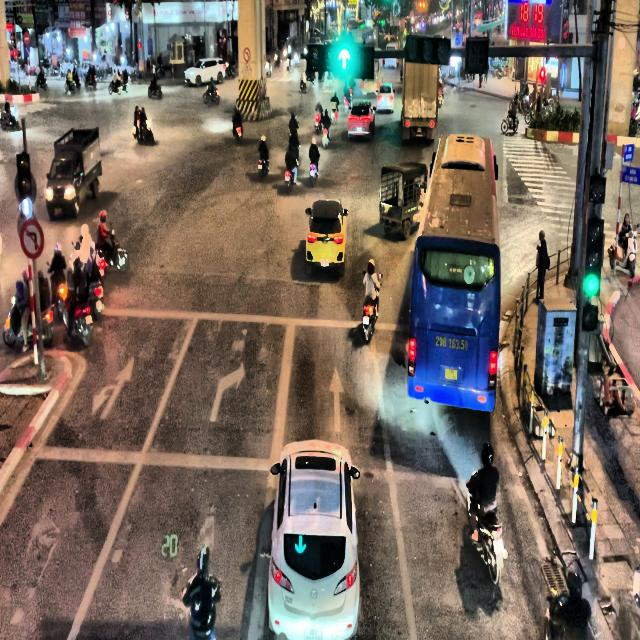BUS: (407, 134, 501, 412)
CAR: (267, 438, 360, 640), (305, 198, 348, 276), (184, 57, 226, 86), (347, 99, 375, 141), (376, 81, 395, 112)
MOTORBIKE: (2, 268, 54, 349), (466, 488, 506, 586), (62, 240, 94, 346), (544, 571, 591, 639), (97, 223, 128, 272), (362, 273, 382, 343), (132, 116, 154, 144), (0, 100, 19, 130), (501, 110, 519, 134), (284, 163, 298, 193), (108, 77, 129, 94), (257, 155, 269, 180), (203, 86, 220, 103), (309, 160, 318, 186), (148, 83, 162, 98), (35, 74, 47, 90), (314, 112, 323, 133), (322, 125, 330, 148), (64, 78, 75, 94), (234, 122, 242, 143), (85, 73, 96, 88), (300, 74, 307, 92), (343, 95, 349, 110)
TRUCK: (45, 127, 102, 220)
